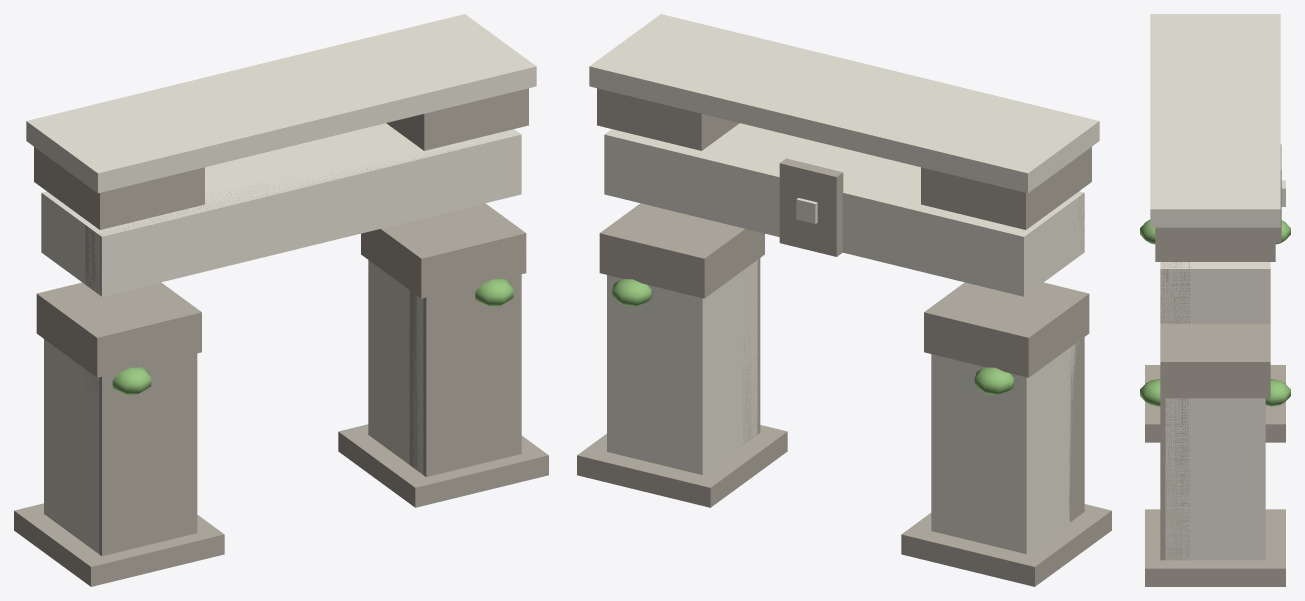
The model's file is arch_stone.glb.
3 views of the same model, side by side, from view 1: azimuth 30°, elevation 25°; view 2: azimuth 150°, elevation 25°; view 3: azimuth 270°, elevation 25° (orthographic). The views are drawn at different scales.
Parts seen in each view (by area): view 1: arch_stone_root; view 2: arch_stone_root; view 3: arch_stone_root.
Boxes of the visible parts, x1,y1,x2,y2 form: arch_stone_root: (14,14,548,586); arch_stone_root: (577,14,1111,586); arch_stone_root: (1140,14,1290,586).
Size of the model in its own units: 4.1 by 3.5 by 1.28.
